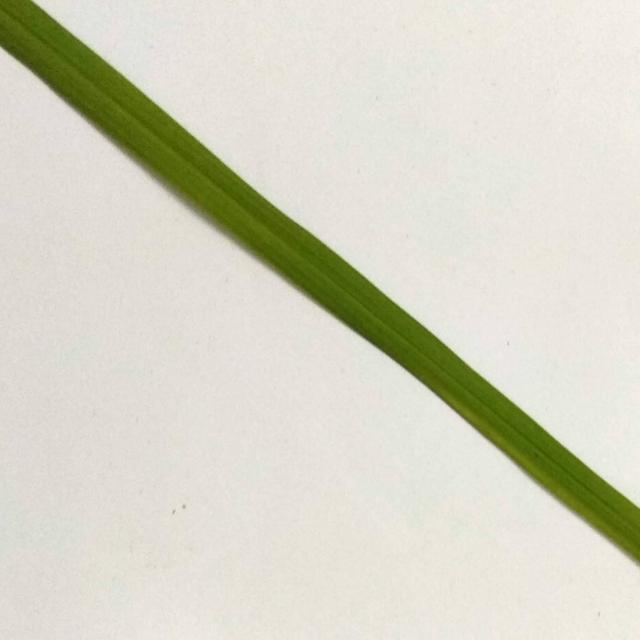Rice_Healthy: (0, 0, 640, 562)
